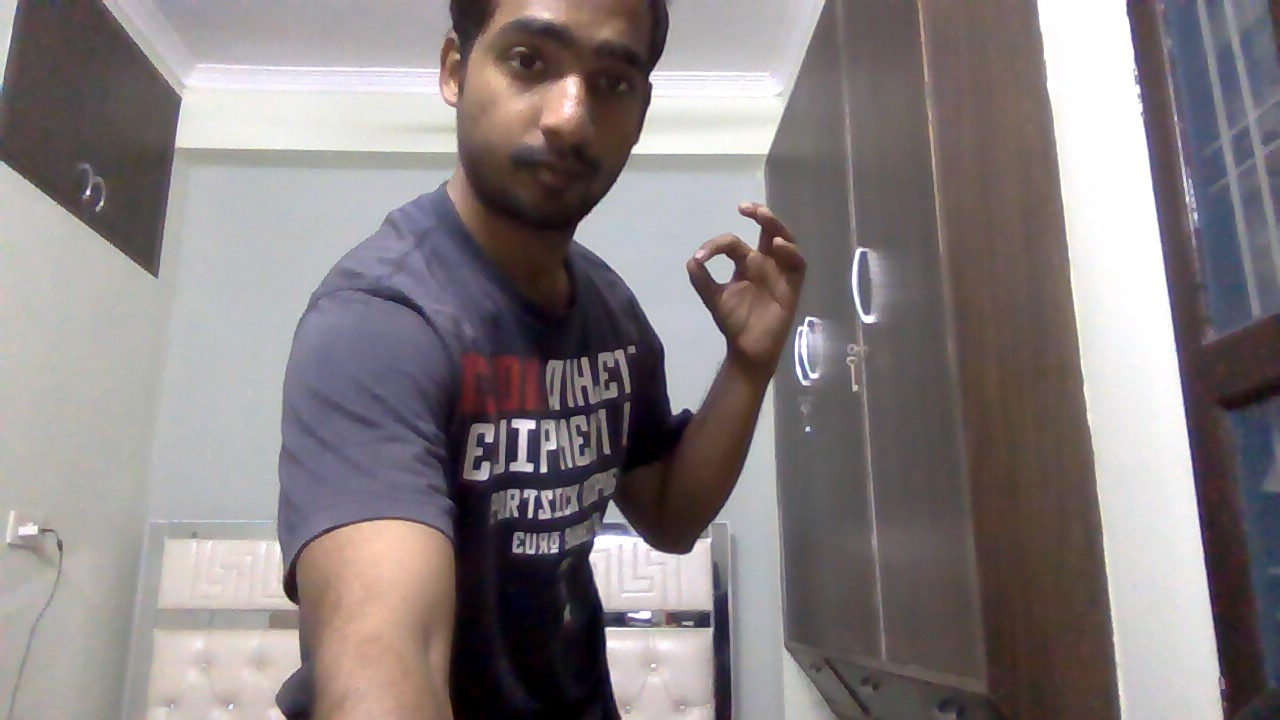Copy: (680, 197, 817, 386)
